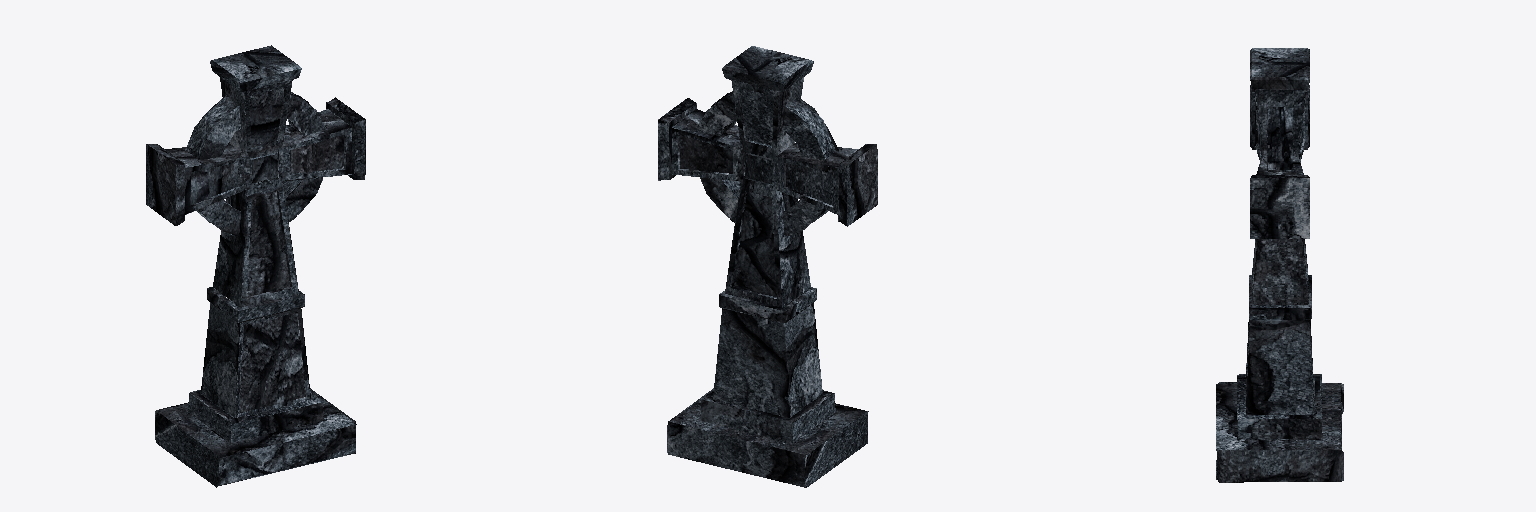
The picture shows the model from 3 angles: view 1: azimuth 30°, elevation 25°; view 2: azimuth 150°, elevation 25°; view 3: azimuth 270°, elevation 25°; orthographic projection.
Parts seen in each view (by area): view 1: defaultMaterial.002; view 2: defaultMaterial.002; view 3: defaultMaterial.002.
Boxes of the visible parts, x1,y1,x2,y2 form: defaultMaterial.002: [146, 45, 365, 487]; defaultMaterial.002: [658, 46, 877, 487]; defaultMaterial.002: [1216, 48, 1343, 482].
Bounding box in the file's own units: 0.617 × 1.2 × 0.3609.
1 materials, 1 textured.